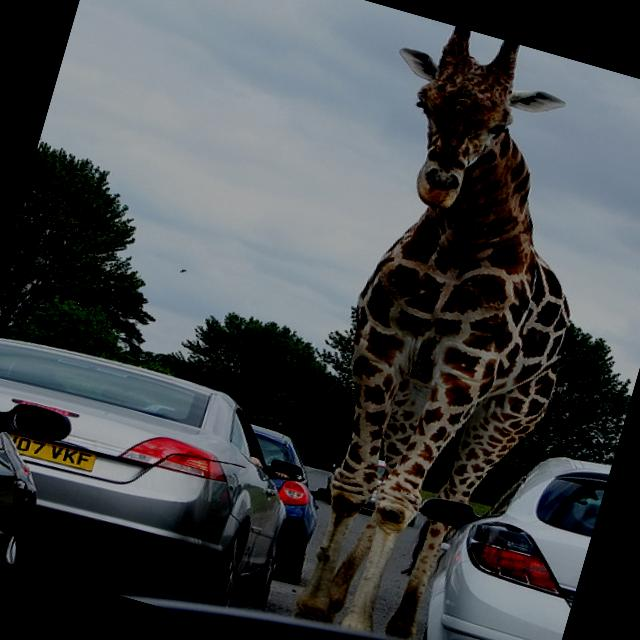Vehicle: (0, 449, 570, 640), (0, 318, 330, 613), (415, 419, 613, 640), (0, 319, 94, 570), (208, 421, 339, 587), (308, 444, 427, 530)
